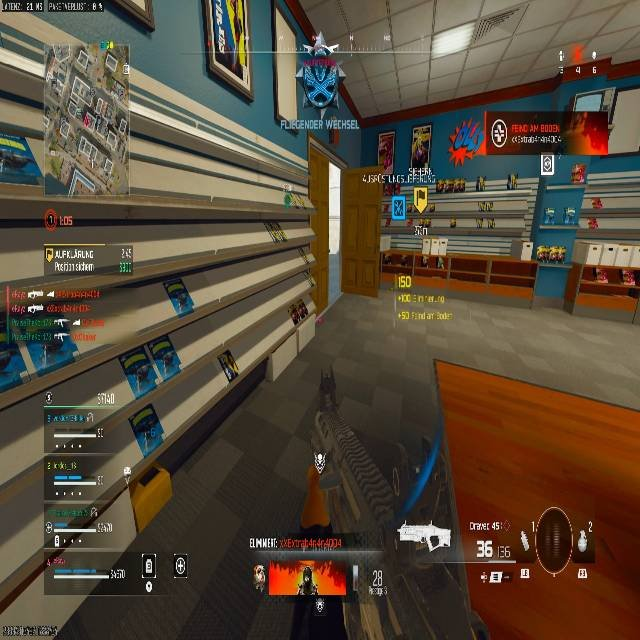player: (298, 52, 342, 126)
